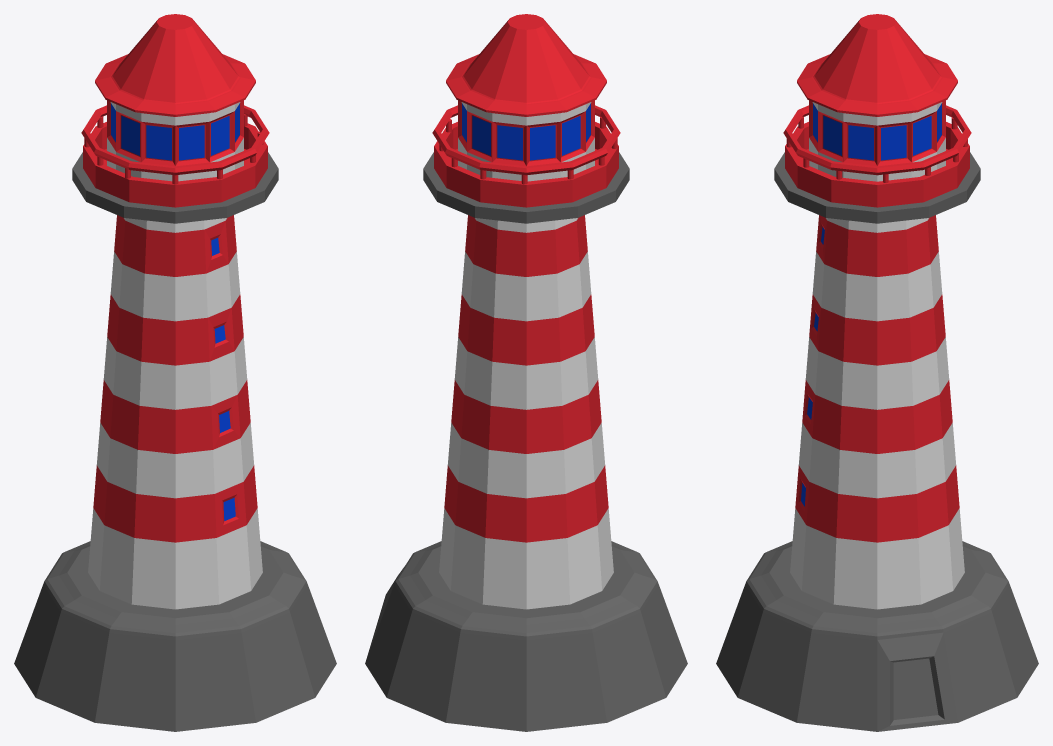
The model's file is svetionik.fbx.
The picture shows the model from 3 angles, left to right: view 1: azimuth 30°, elevation 25°; view 2: azimuth 150°, elevation 25°; view 3: azimuth 270°, elevation 25°; orthographic projection.
Parts seen in each view (by area): view 1: Cylinder; view 2: Cylinder; view 3: Cylinder.
Boxes of the visible parts, x1=… form: Cylinder: x1=14, y1=14, x2=336, y2=731; Cylinder: x1=365, y1=14, x2=687, y2=731; Cylinder: x1=716, y1=14, x2=1038, y2=731.
Size of the model in its own units: 269 by 590 by 269.
